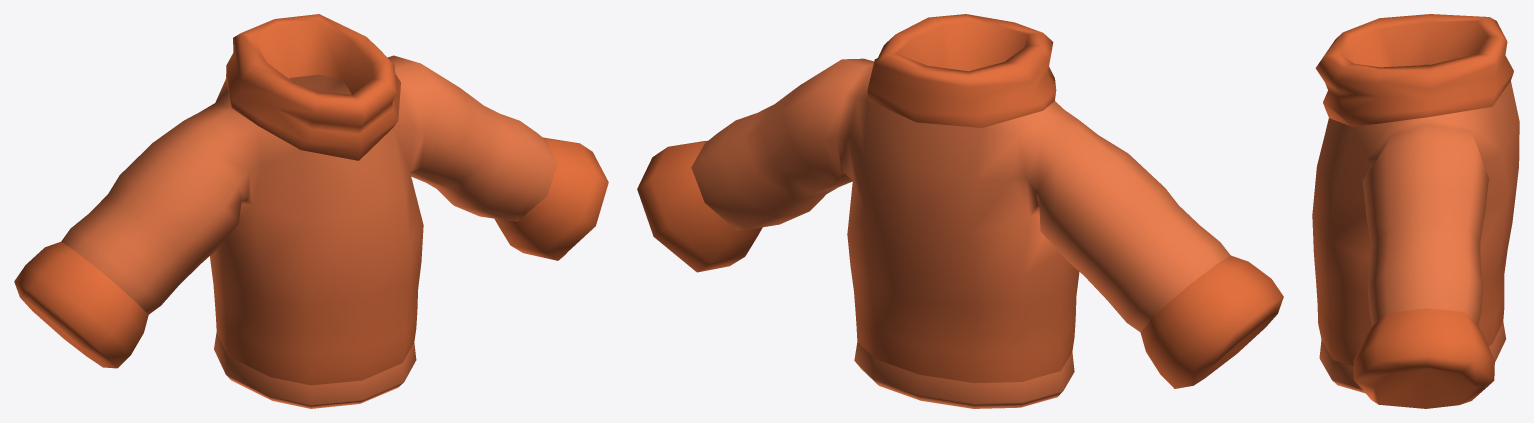
File: Top_02_Slim.fbx
3 renders of one model, left to right at view 1: azimuth 30°, elevation 25°; view 2: azimuth 150°, elevation 25°; view 3: azimuth 270°, elevation 25°, orthographic. The views are drawn at different scales.
Parts seen in each view (by area): view 1: Top_02_Slim; view 2: Top_02_Slim; view 3: Top_02_Slim.
Part boxes in pixels (bbox=[...]): Top_02_Slim: bbox=[14, 14, 608, 408]; Top_02_Slim: bbox=[637, 14, 1283, 408]; Top_02_Slim: bbox=[1312, 14, 1519, 408].
Size of the model in its own units: 90.5 by 49.38 by 28.19.
